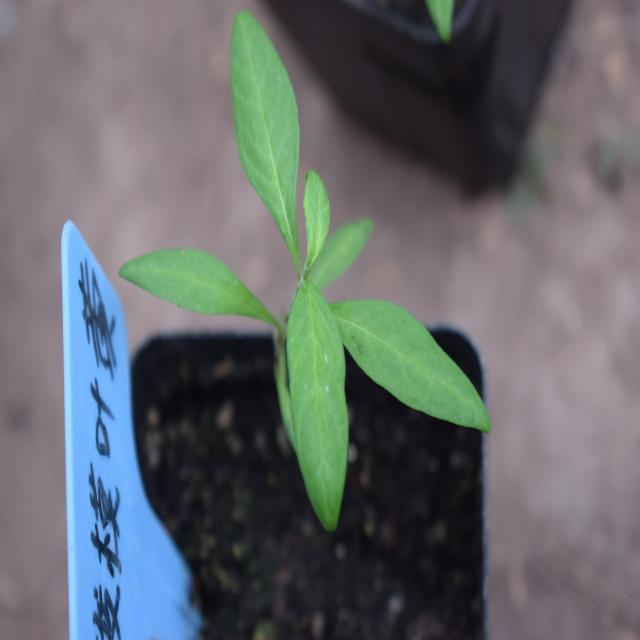white_smart_weed: (135, 51, 486, 518)
